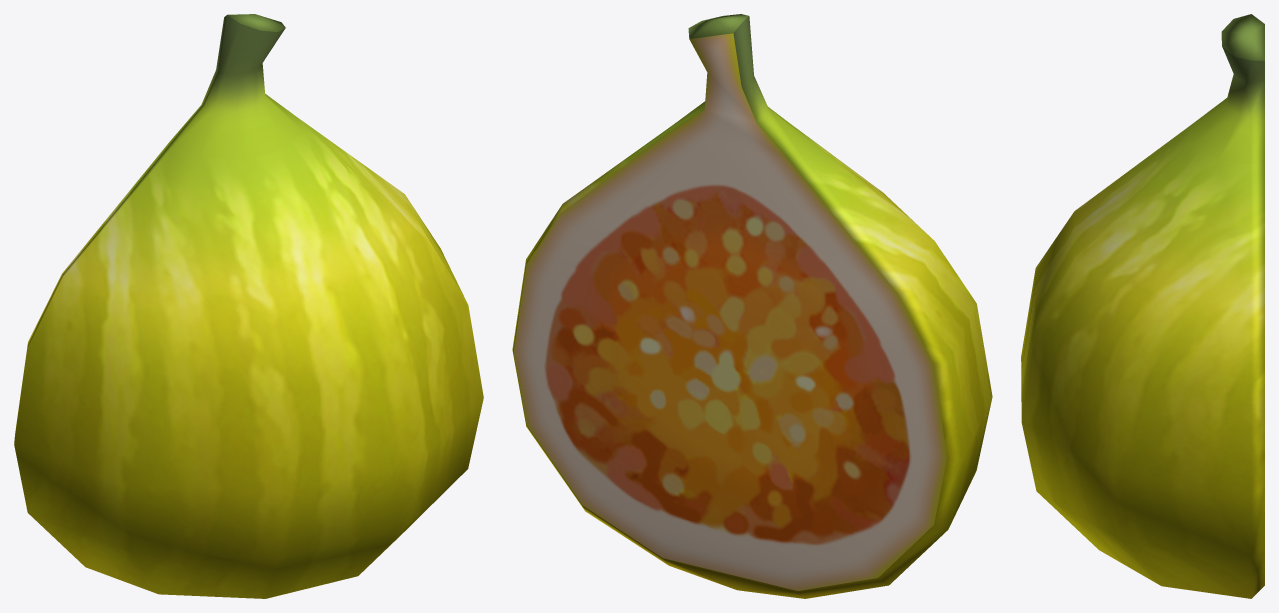
The model's file is Fig_Yellow_Half.fbx.
3 renders of one model, left to right at view 1: azimuth 30°, elevation 25°; view 2: azimuth 150°, elevation 25°; view 3: azimuth 270°, elevation 25°, orthographic. The views are drawn at different scales.
Visible parts, largest first — view 1: Fig_Yellow_Half; view 2: Fig_Yellow_Half; view 3: Fig_Yellow_Half.
Boxes of the visible parts, <box> form: Fig_Yellow_Half: <box>14,14,483,598</box>; Fig_Yellow_Half: <box>512,14,992,598</box>; Fig_Yellow_Half: <box>1021,14,1264,598</box>.
Bounding box in the file's own units: 23.88 × 28.97 × 11.62.
Materials: 1 (1 with a texture image).
